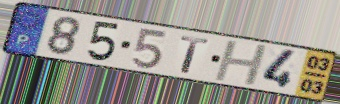4: (259, 47, 297, 93)
5: (130, 26, 171, 70), (86, 21, 121, 63)
8: (45, 16, 82, 57)
H: (212, 40, 271, 87)
T: (178, 34, 212, 76)
